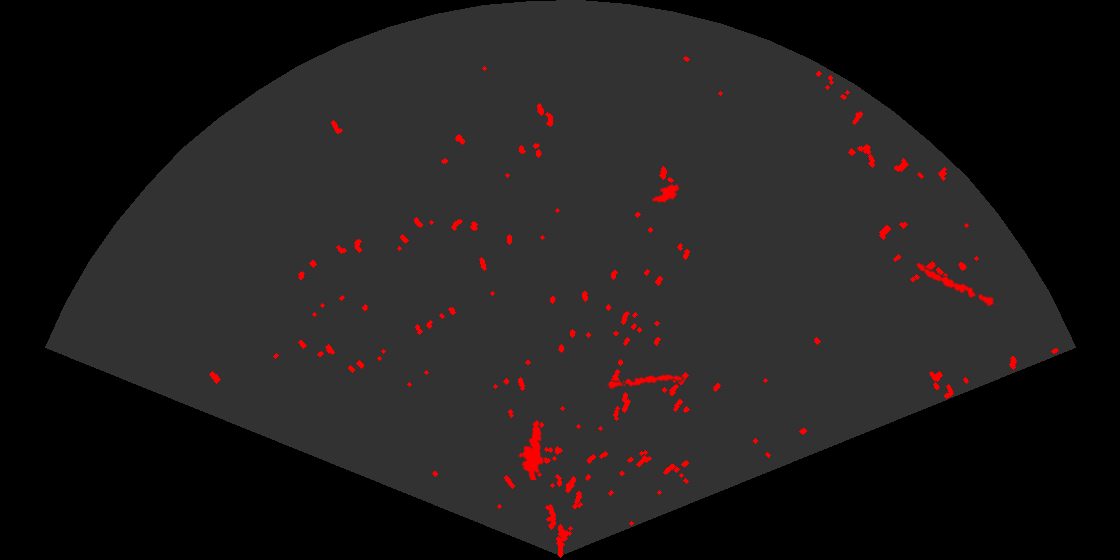AUV: (650, 182, 681, 206)
chain: (914, 261, 998, 308), (605, 373, 684, 391)
frogman: (517, 418, 545, 480)
